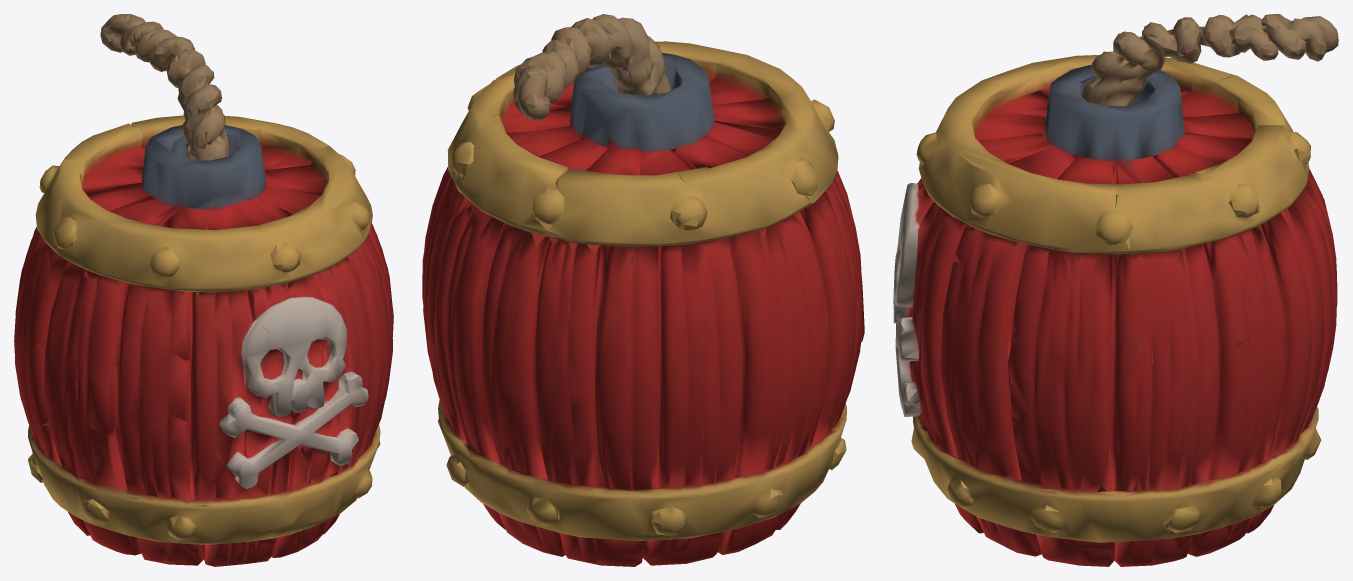
Rendered from keg.glb.
The picture shows the model from 3 angles, left to right: view 1: azimuth 30°, elevation 25°; view 2: azimuth 150°, elevation 25°; view 3: azimuth 270°, elevation 25°; orthographic projection. The views are drawn at different scales.
Parts seen in each view (by area): view 1: keg; view 2: keg; view 3: keg.
Boxes of the visible parts, x1,y1,x2,y2 form: keg: (14, 14, 393, 566); keg: (422, 14, 864, 566); keg: (893, 14, 1338, 566).
Size of the model in its own units: 0.9943 by 1.25 by 1.02.
1 material, 1 textured.
